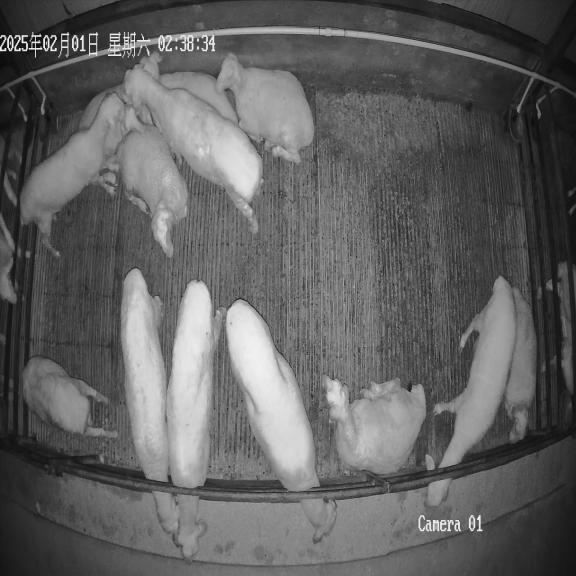eating: (225, 299, 339, 544), (166, 280, 225, 568), (120, 268, 182, 539)
lying: (216, 53, 315, 163), (323, 378, 426, 475), (115, 126, 188, 258), (135, 53, 238, 125), (79, 84, 149, 158), (503, 287, 536, 443)
stand: (20, 93, 124, 257), (22, 356, 117, 438)
